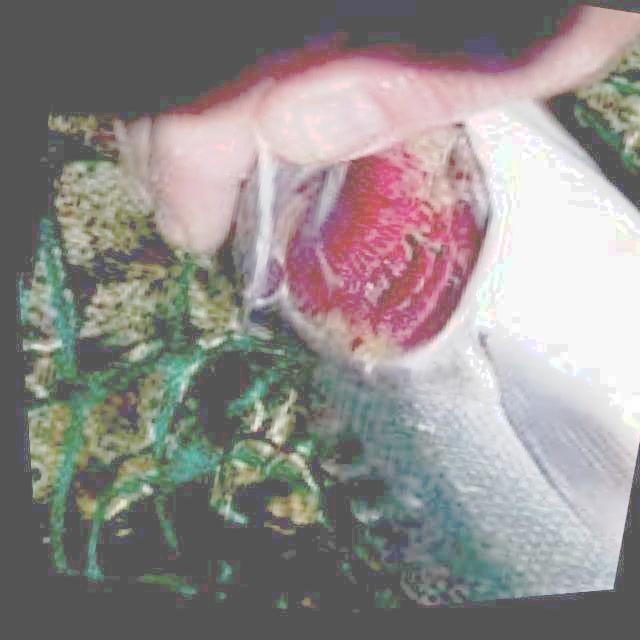Flavobacterium -Bacterial Gill Disease-: (232, 99, 640, 603)
